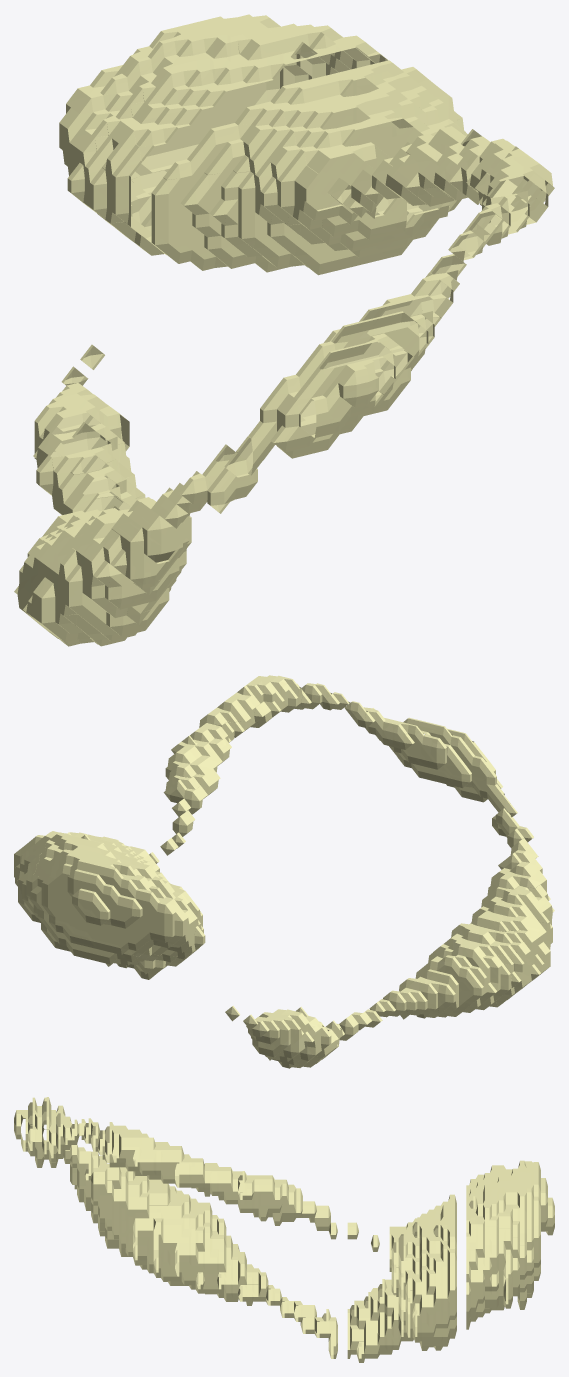
Rendered from SVV_IL2VL.gltf.
3 views of the same model, one above another, from view 1: azimuth 30°, elevation 25°; view 2: azimuth 150°, elevation 25°; view 3: azimuth 270°, elevation 25° (orthographic). The views are drawn at different scales.
Visible parts, largest first — view 1: IL2VL; view 2: IL2VL; view 3: IL2VL.
Boxes of the visible parts, x1,y1,x2,y2 form: IL2VL: (14,14,554,646); IL2VL: (14,675,554,1068); IL2VL: (14,1097,554,1362).
Bounding box in the file's own units: 27665 × 18434 × 29712.
